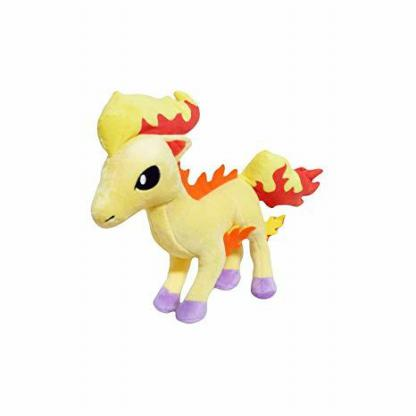Ponyta: (73, 57, 333, 340)
